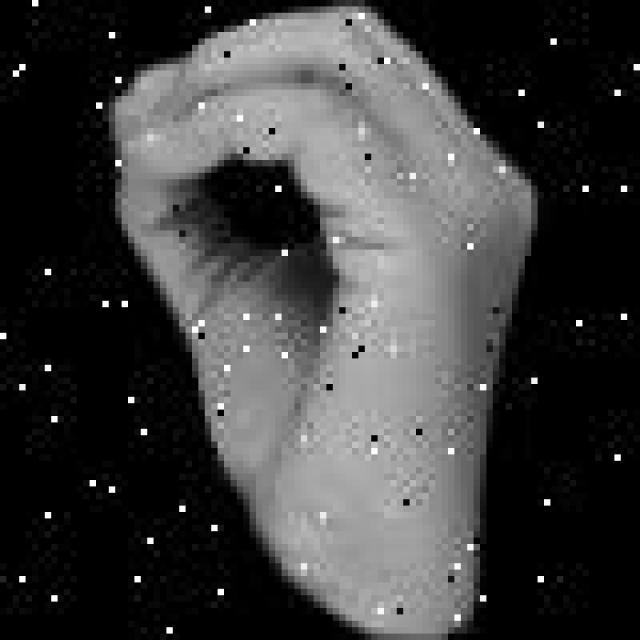O: (96, 0, 563, 589)
